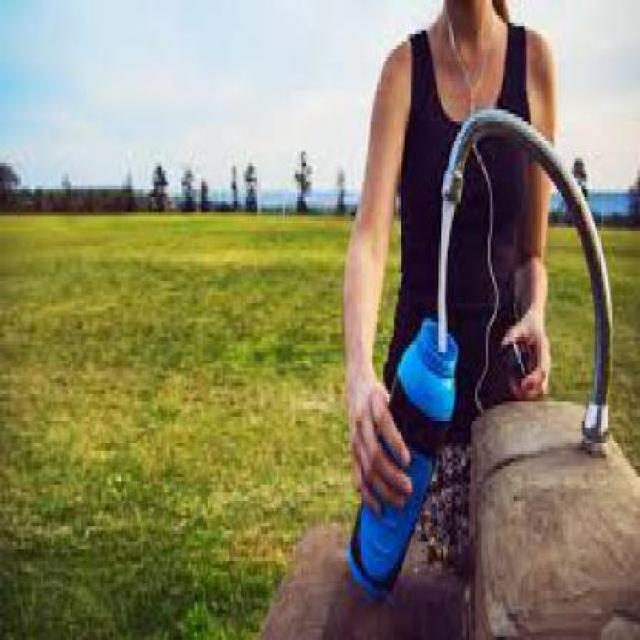Drinking: (349, 307, 456, 610)
